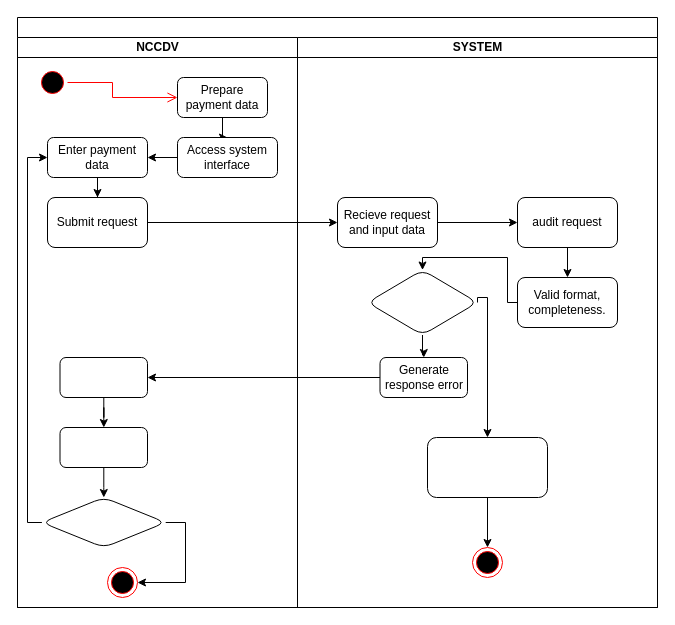
Some shapes in this 675 by 625 pixel diagram are drawn without their labels. The shapes that lost their labels are listed below. From the top down, each one's centre as x and y in pixels, then its label:
At point 422,302: "Is data valid".
At point 103,377: "Receive erroe message".
At point 103,447: "Review and correct input".
At point 487,467: "complete payment".
At point 103,522: "Continue ?".
